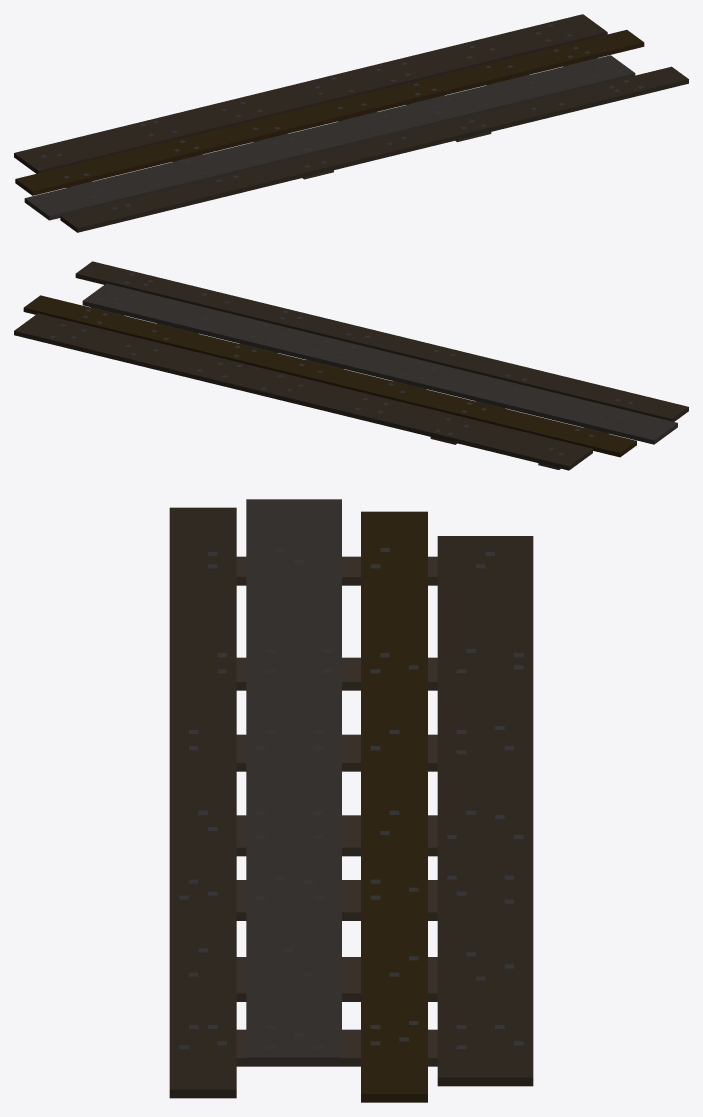
File: Planky Bridge.obj
3 renders of one model, top to bottom at view 1: azimuth 30°, elevation 25°; view 2: azimuth 150°, elevation 25°; view 3: azimuth 270°, elevation 25°, orthographic. The views are drawn at different scales.
Bounding box in the file's own units: 14.7 × 0.2 × 3.8.
1 material, 1 textured.
